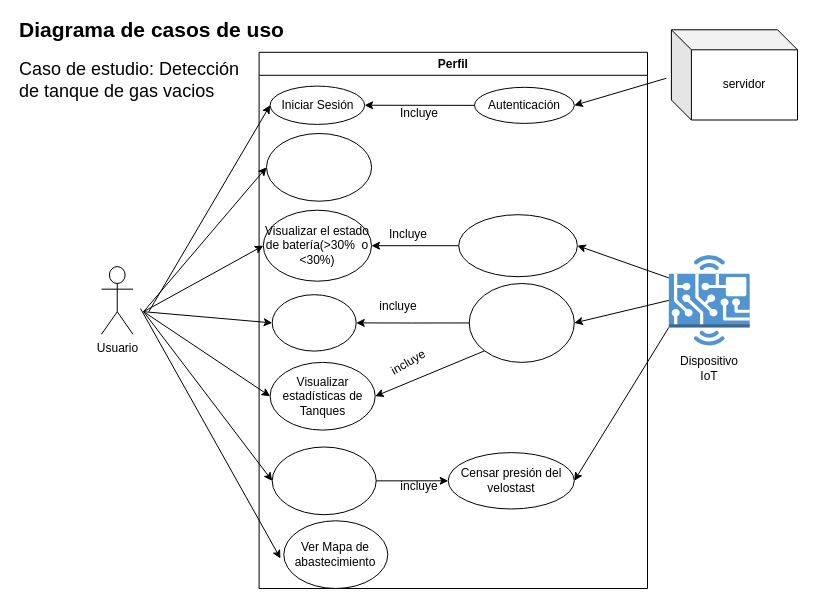
This 815x606 diagram has some shape labels left out. Each missing label, with the box of its shape:
Censar el nivel de batería (cada 10 minutos): (458, 214, 577, 277)
Encender/Apagar el dispositivo: (271, 446, 376, 515)
Registrar el estado del tanque (lleno o vacío): (468, 282, 574, 362)
Visualizar estado del tanque(ID): (271, 294, 356, 351)
Visualizar Perfil de Usuario: (266, 132, 372, 201)
